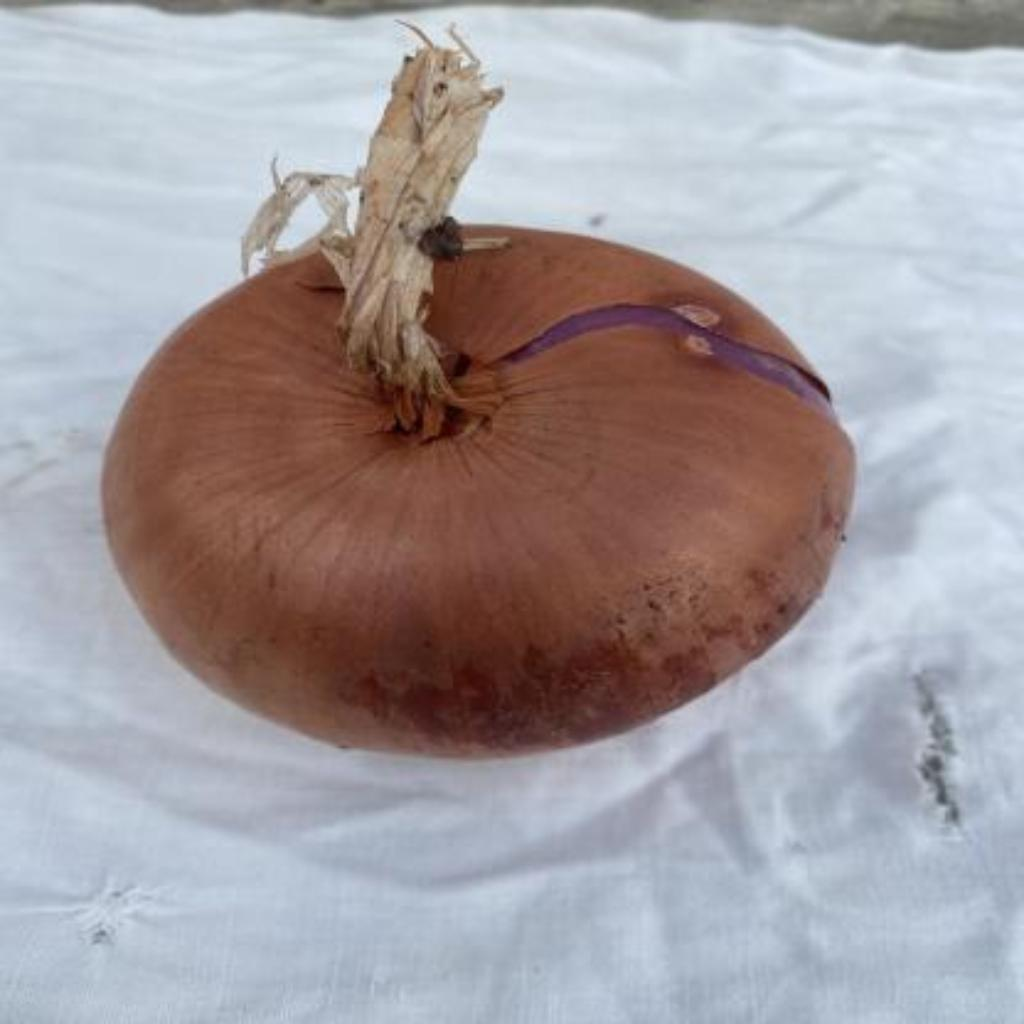Onion: (103, 34, 857, 757)
